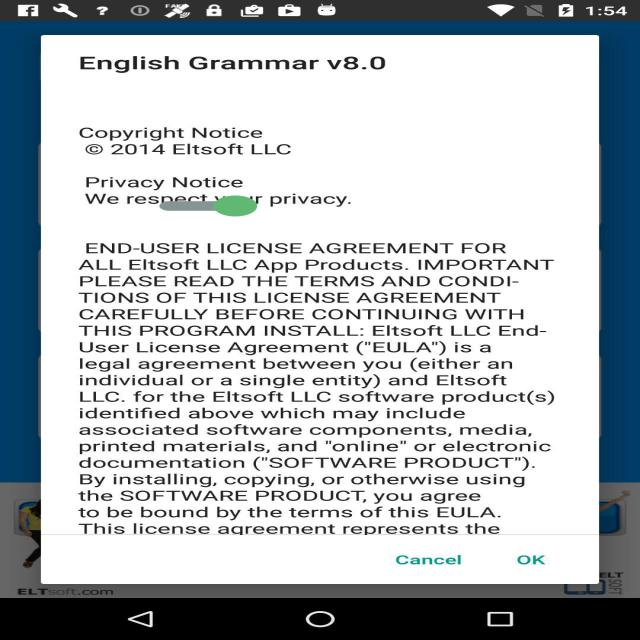social proof: (160, 183, 258, 229)
